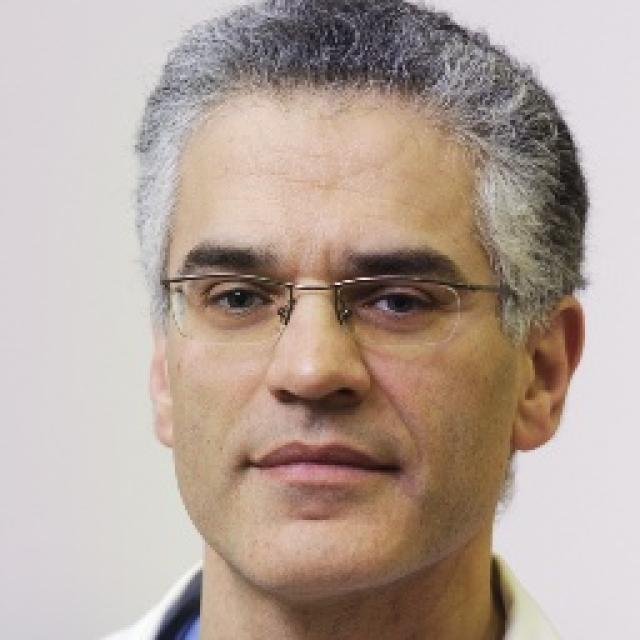earlobe: (514, 412, 559, 456), (148, 407, 176, 450)
eye: (198, 281, 274, 321), (362, 285, 439, 322)
nose: (268, 387, 364, 430)
wholeear: (516, 294, 586, 451), (144, 273, 178, 451)
